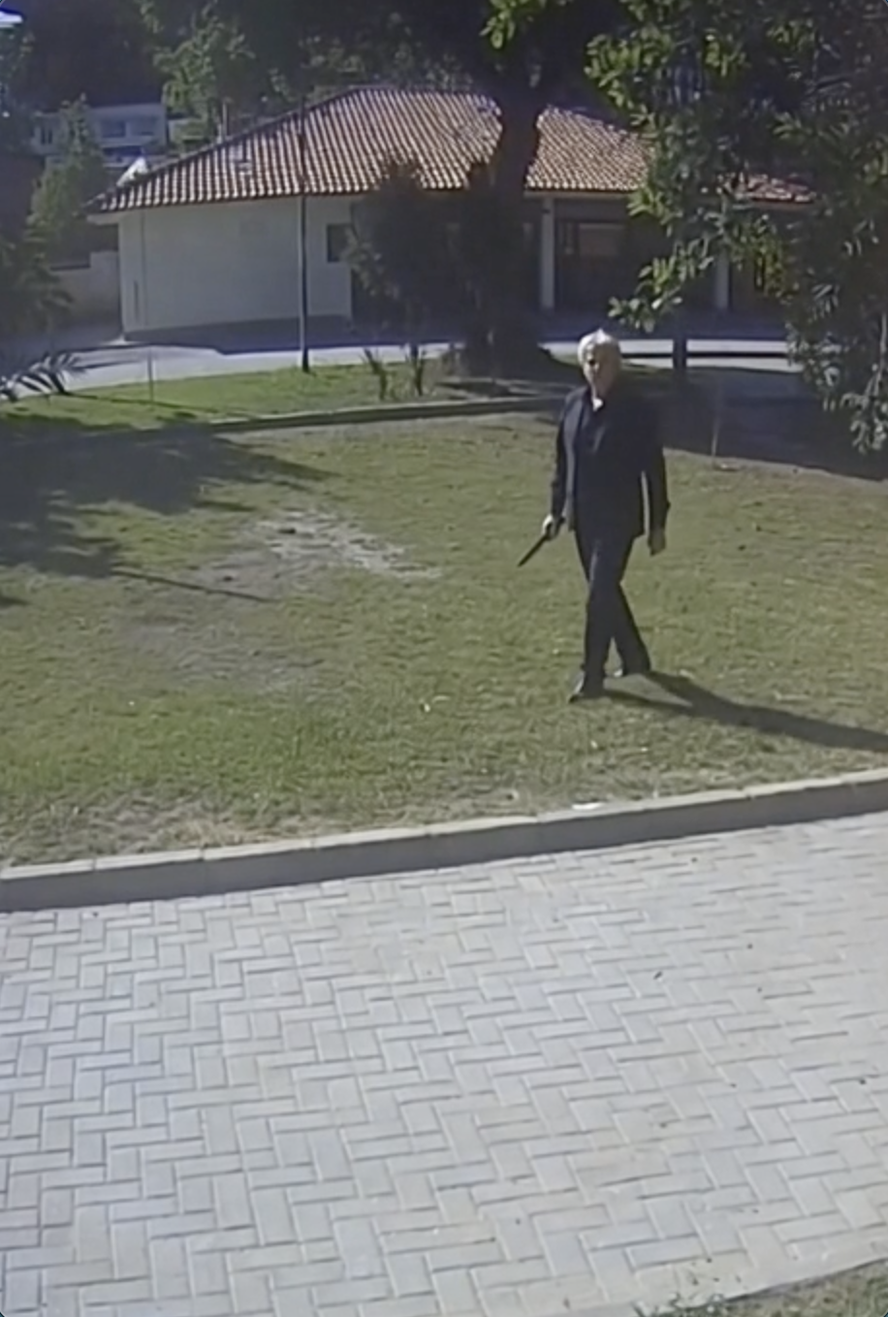Heavy Gun: (546, 329, 680, 707)
Knife: (513, 510, 570, 576)
